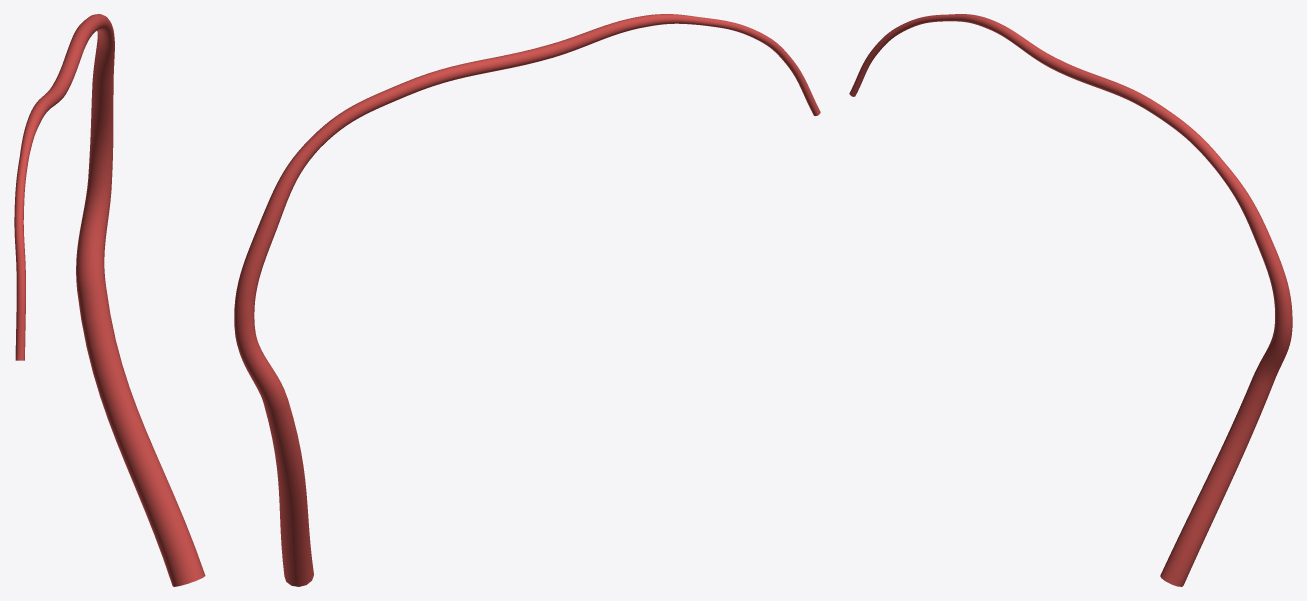
The picture shows the model from 3 angles, left to right: view 1: azimuth 30°, elevation 25°; view 2: azimuth 150°, elevation 25°; view 3: azimuth 270°, elevation 25°; orthographic projection. The views are drawn at different scales.
Visible parts, largest first — view 1: 右侧旋股内侧动脉; view 2: 右侧旋股内侧动脉; view 3: 右侧旋股内侧动脉.
Part boxes in pixels (x1,y1,x2,y2): 右侧旋股内侧动脉: [14, 14, 205, 586]; 右侧旋股内侧动脉: [234, 14, 820, 586]; 右侧旋股内侧动脉: [849, 14, 1292, 586].
Bounding box in the file's own units: 0.0515 × 0.0772 × 0.0665.
